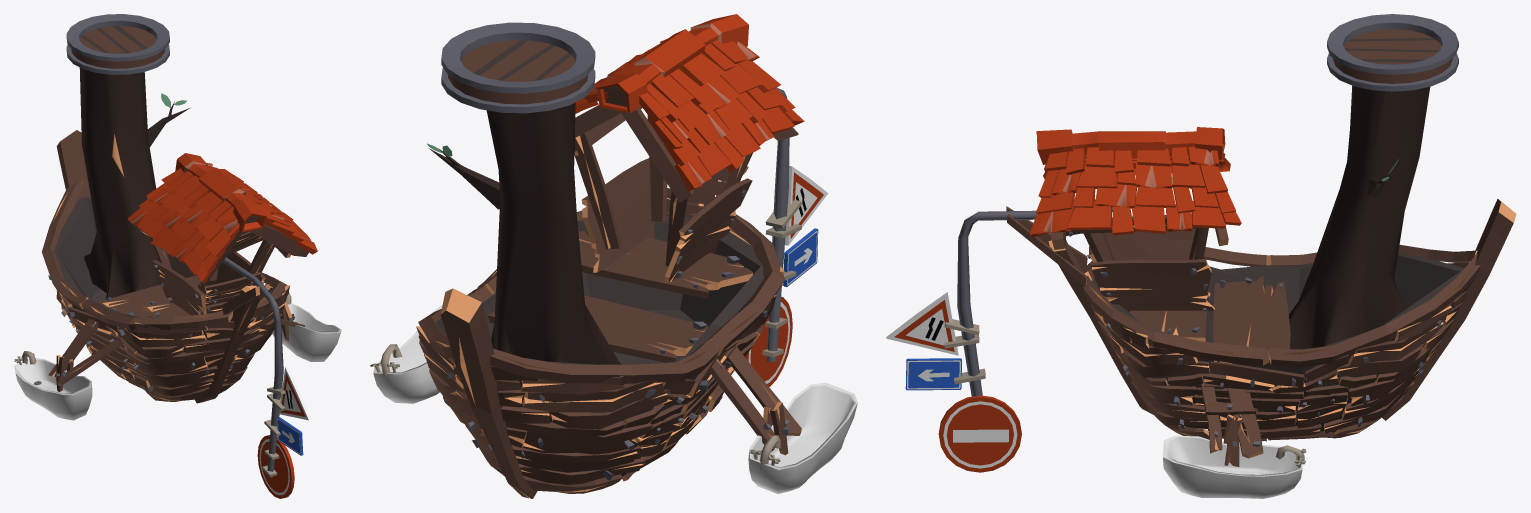
The model's file is SM_BoatBase_V2.fbx.
3 renders of one model, left to right at view 1: azimuth 30°, elevation 25°; view 2: azimuth 150°, elevation 25°; view 3: azimuth 270°, elevation 25°, orthographic. The views are drawn at different scales.
Parts seen in each view (by area): view 1: SM_BoatBase_V2, SM_BoatRudder_V2; view 2: SM_BoatBase_V2, SM_BoatRudder_V2; view 3: SM_BoatBase_V2, SM_BoatRudder_V2.
Part boxes in pixels (left/top/right/bottom): SM_BoatBase_V2: left=14, top=14, right=341, bottom=420; SM_BoatRudder_V2: left=223, top=257, right=311, bottom=498; SM_BoatBase_V2: left=370, top=14, right=857, bottom=498; SM_BoatRudder_V2: left=745, top=87, right=828, bottom=387; SM_BoatBase_V2: left=1006, top=14, right=1516, bottom=498; SM_BoatRudder_V2: left=886, top=207, right=1112, bottom=472.
Size of the model in its own units: 274 by 311 by 411.
